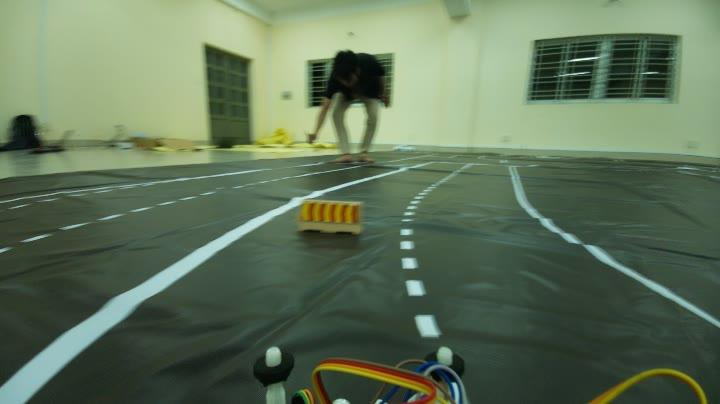roadblock: (300, 192, 364, 235)
